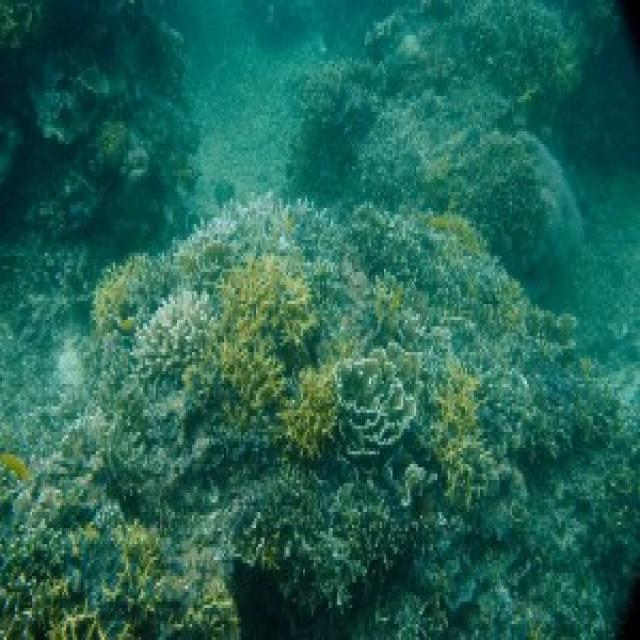Healthy: (63, 196, 620, 615), (287, 11, 581, 279), (413, 423, 639, 638), (1, 475, 238, 638)
